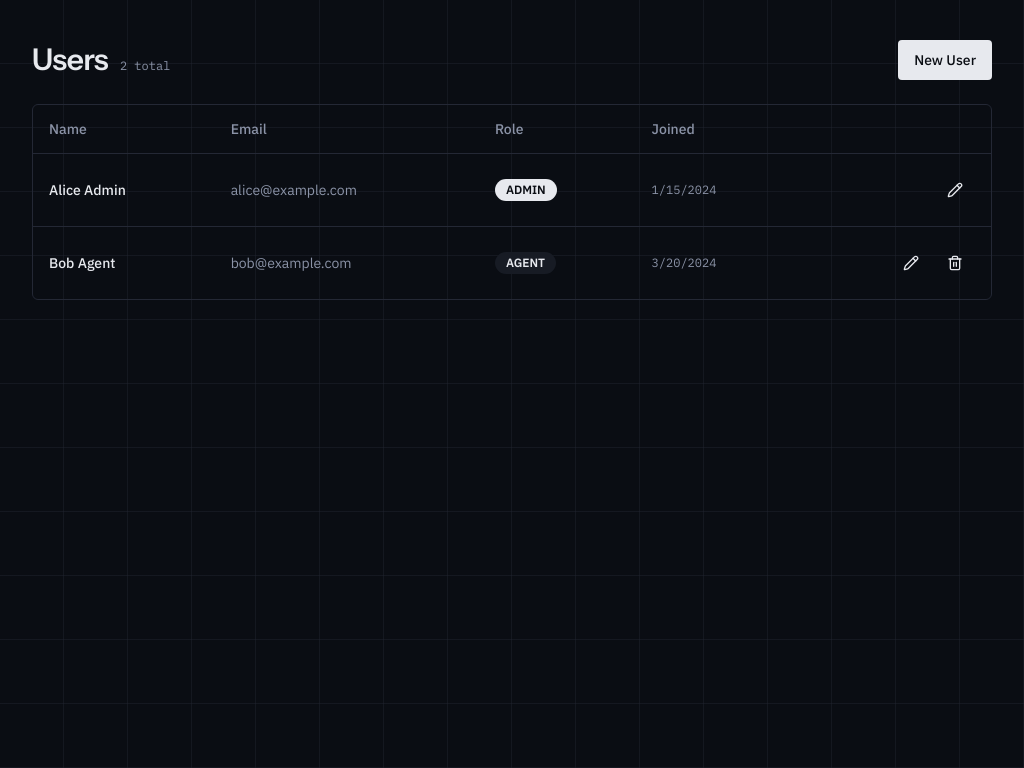
Scenario: UsersPage - delete dialog › hides the confirmation dialog when Escape is pressed
The width and height of the screenshot is (1024, 768).
Check: the text "Alice Admin" is shown, box x1=33 y1=153 x2=215 y2=226
Step 1. Click the button named "Delete user" → (955, 262), box x1=935 y1=242 x2=975 y2=282
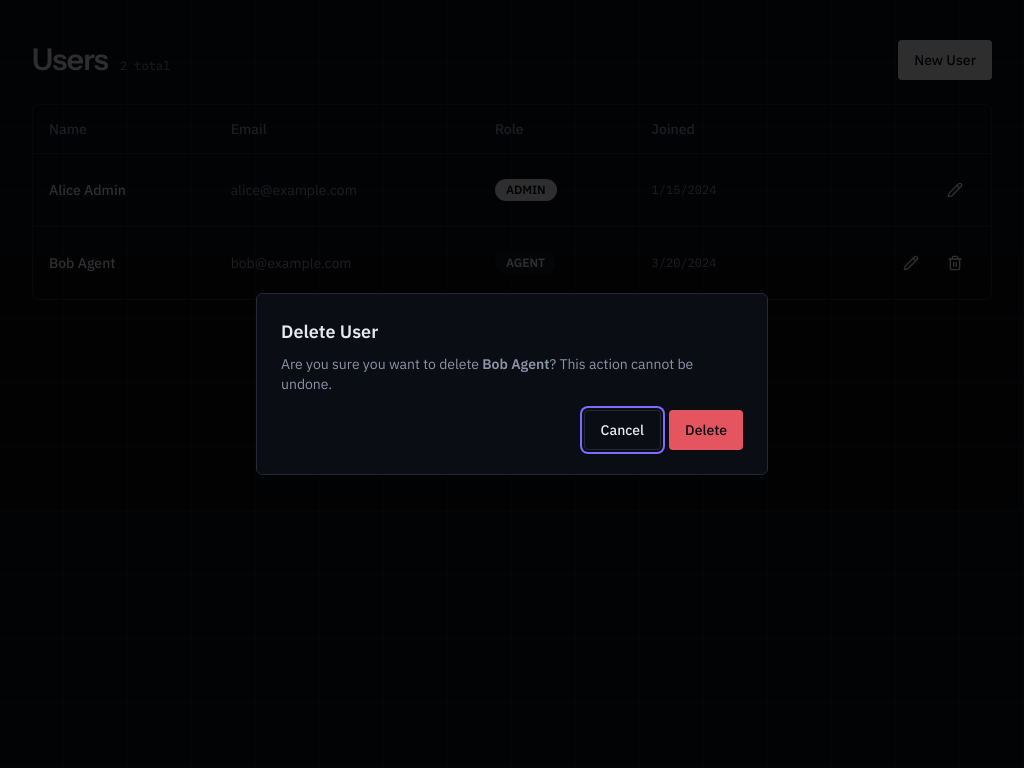
Step 2. Press Escape
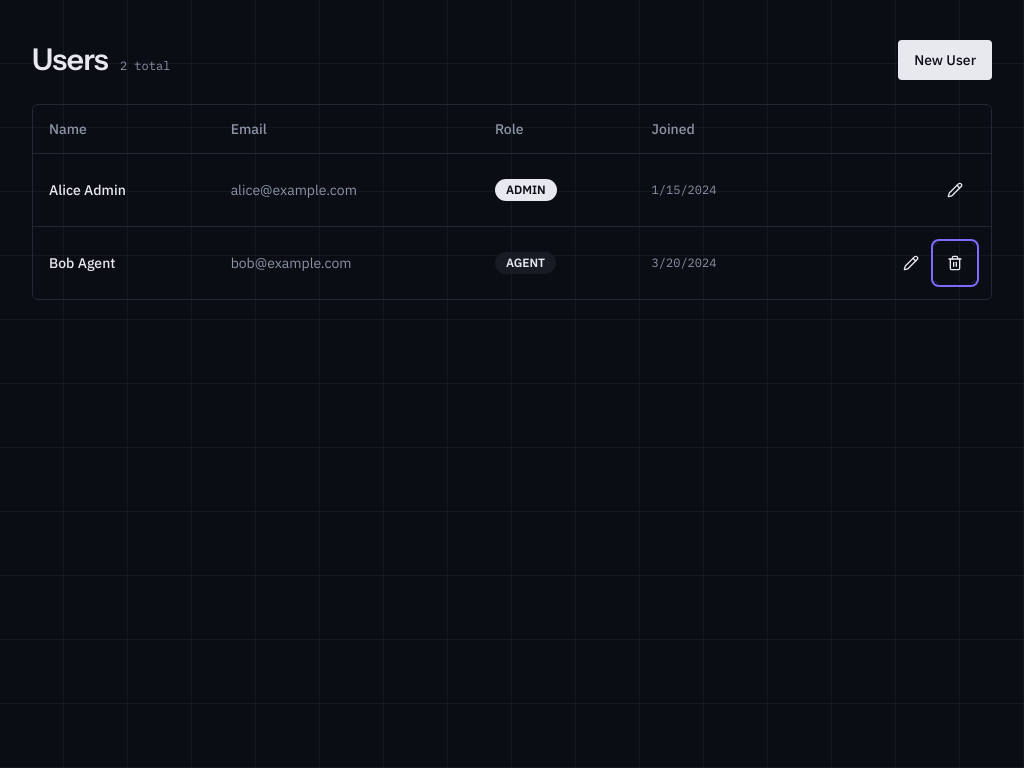
Check: the dialog is gone
